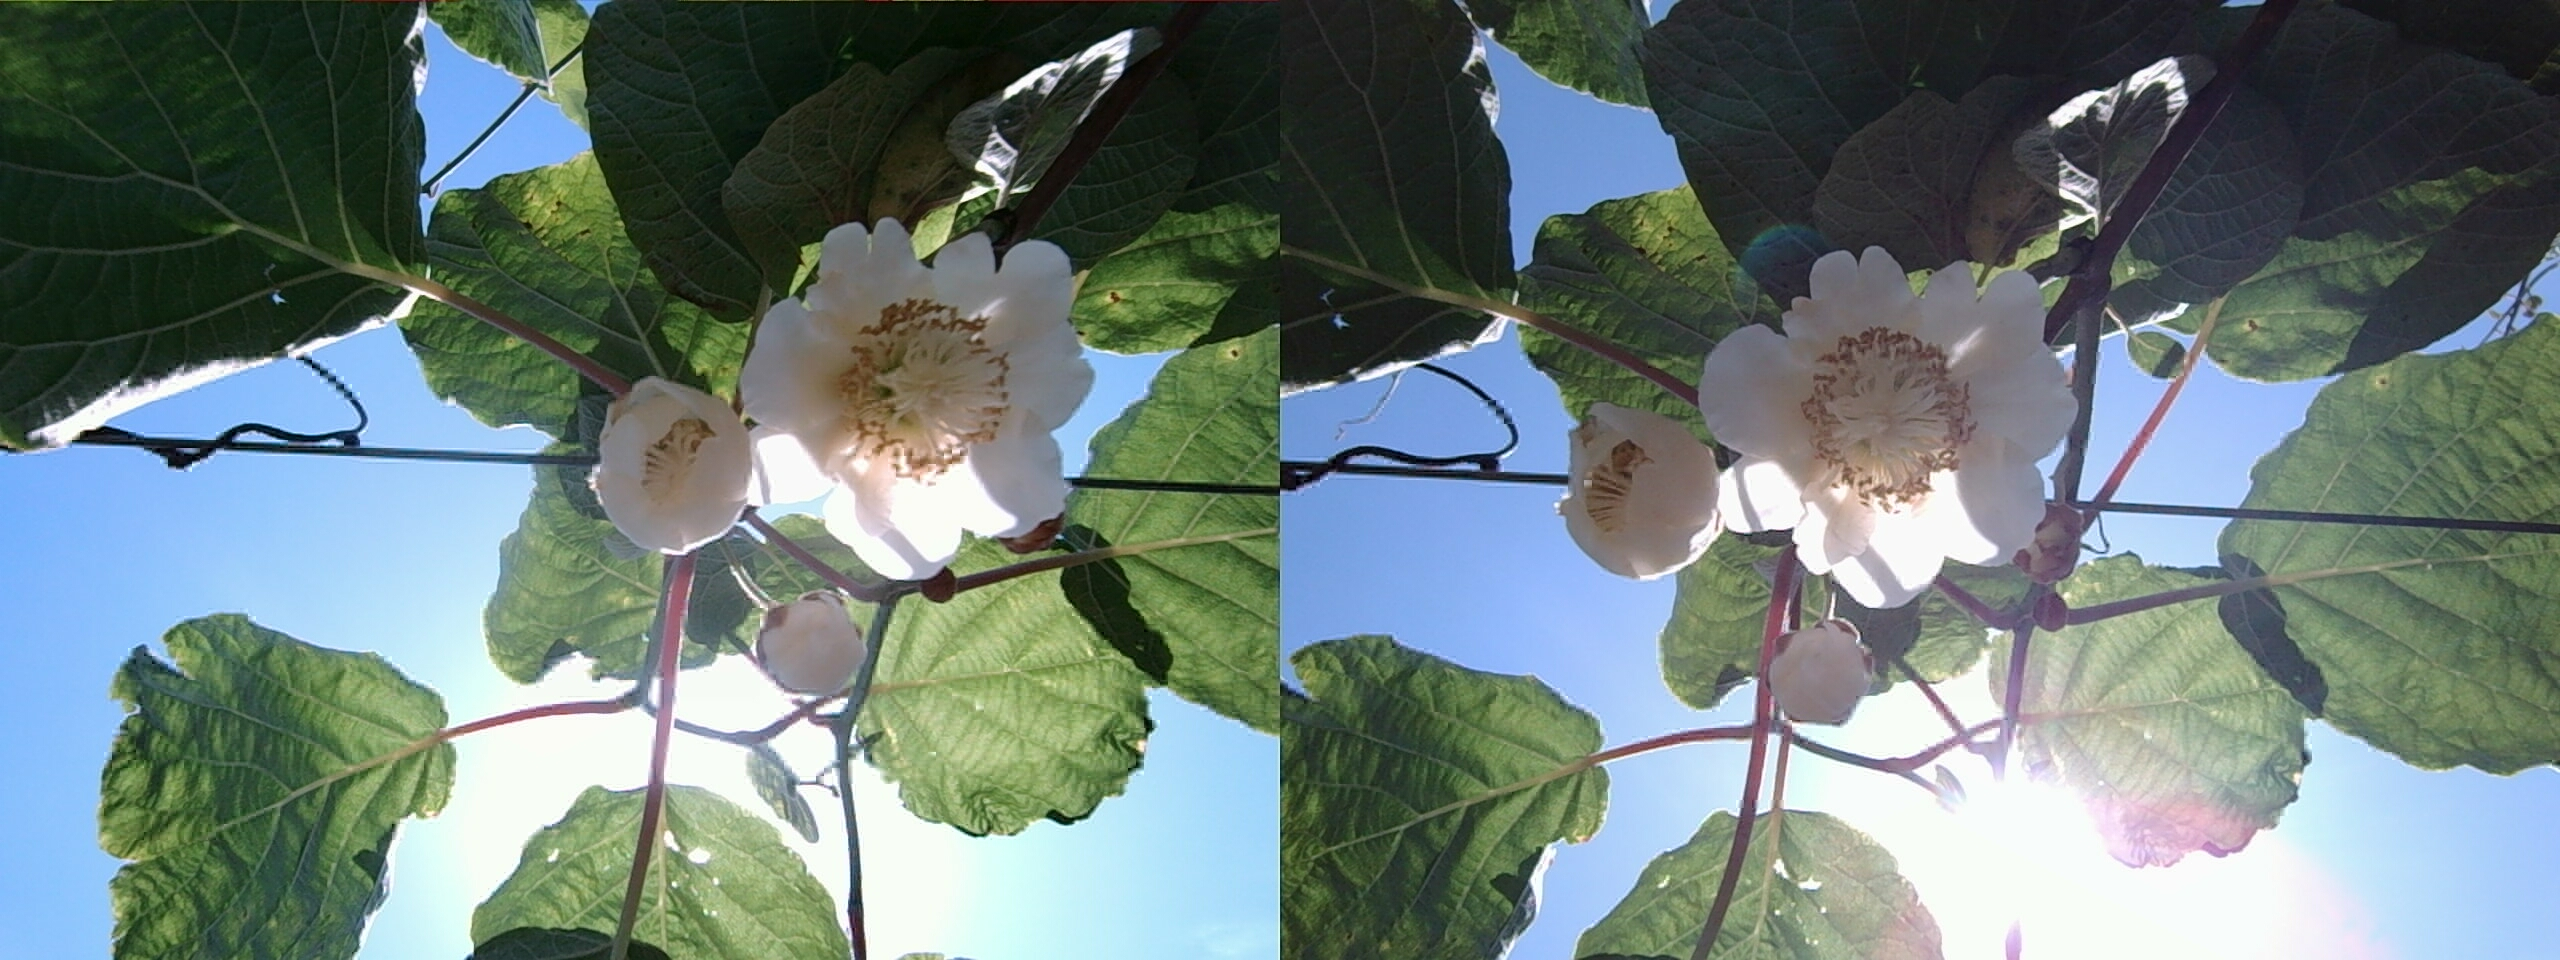flower: (1711, 250, 2049, 570), (758, 220, 1068, 552), (1554, 398, 1732, 583), (589, 371, 758, 555)
